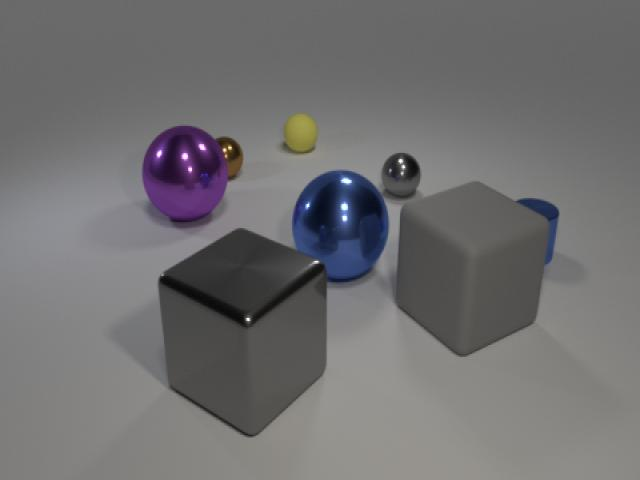cylinder: (509, 189, 561, 269)
round ball: (289, 164, 393, 287), (138, 119, 232, 227), (379, 150, 424, 200), (205, 131, 248, 182), (282, 110, 320, 159)
